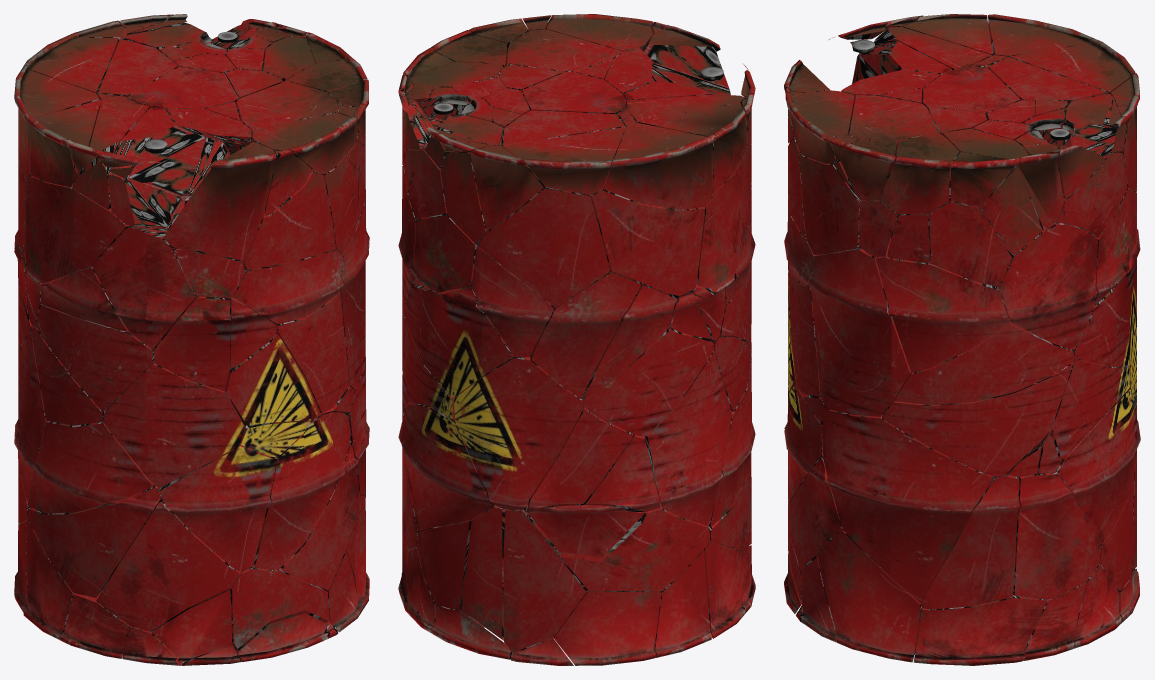
Rendered from Barrel.glb.
The picture shows the model from 3 angles, left to right: view 1: azimuth 30°, elevation 25°; view 2: azimuth 150°, elevation 25°; view 3: azimuth 270°, elevation 25°; orthographic projection.
Visible parts, largest first — view 1: Barrel_01_cell.110, Barrel_01_cell.028, Barrel_01_cell.017, Barrel_01_cell.014, Barrel_01_cell.170, Barrel_01_cell.023, Barrel_01_cell.192, Barrel_01_cell.038, Barrel_01_cell.096, Barrel_01_cell.105, Barrel_01_cell.120, Barrel_01_cell.159 (+51 smaller); view 2: Barrel_01_cell.011, Barrel_01_cell.175, Barrel_01_cell.152, Barrel_01_cell.171, Barrel_01_cell.151, Barrel_01_cell.018, Barrel_01_cell.187, Barrel_01_cell.054, Barrel_01_cell.199, Barrel_01_cell.133, Barrel_01_cell.008, Barrel_01_cell.168 (+49 smaller); view 3: Barrel_01_cell.129, Barrel_01_cell.082, Barrel_01_cell.106, Barrel_01_cell.007, Barrel_01_cell.117, Barrel_01_cell.132, Barrel_01_cell.197, Barrel_01_cell.059, Barrel_01_cell.094, Barrel_01_cell.147, Barrel_01_cell.199, Barrel_01_cell.156 (+46 smaller).
Part boxes in pixels (left/top/right/bottom): Barrel_01_cell.110: left=104, top=360, right=245, bottom=487; Barrel_01_cell.028: left=96, top=499, right=240, bottom=631; Barrel_01_cell.017: left=160, top=441, right=276, bottom=572; Barrel_01_cell.014: left=253, top=412, right=350, bottom=569; Barrel_01_cell.170: left=27, top=409, right=154, bottom=513; Barrel_01_cell.023: left=163, top=142, right=277, bottom=261; Barrel_01_cell.192: left=92, top=226, right=198, bottom=349; Barrel_01_cell.038: left=28, top=485, right=163, bottom=597; Barrel_01_cell.096: left=24, top=175, right=133, bottom=284; Barrel_01_cell.105: left=108, top=107, right=204, bottom=226; Barrel_01_cell.120: left=36, top=304, right=154, bottom=412; Barrel_01_cell.159: left=225, top=333, right=320, bottom=427; Barrel_01_cell.011: left=453, top=354, right=583, bottom=510; Barrel_01_cell.175: left=477, top=186, right=609, bottom=307; Barrel_01_cell.152: left=644, top=350, right=732, bottom=525; Barrel_01_cell.171: left=582, top=170, right=705, bottom=300; Barrel_01_cell.151: left=406, top=263, right=539, bottom=397; Barrel_01_cell.018: left=517, top=503, right=710, bottom=592; Barrel_01_cell.187: left=503, top=509, right=585, bottom=652; Barrel_01_cell.054: left=604, top=122, right=716, bottom=209; Barrel_01_cell.199: left=401, top=404, right=493, bottom=530; Barrel_01_cell.133: left=583, top=317, right=713, bottom=436; Barrel_01_cell.008: left=531, top=272, right=642, bottom=398; Barrel_01_cell.168: left=553, top=591, right=661, bottom=665; Barrel_01_cell.129: left=821, top=410, right=999, bottom=603; Barrel_01_cell.082: left=808, top=247, right=910, bottom=416; Barrel_01_cell.106: left=882, top=362, right=1073, bottom=476; Barrel_01_cell.007: left=876, top=238, right=1009, bottom=372; Barrel_01_cell.117: left=998, top=221, right=1097, bottom=350; Barrel_01_cell.132: left=817, top=530, right=922, bottom=662; Barrel_01_cell.197: left=1013, top=472, right=1101, bottom=599; Barrel_01_cell.059: left=894, top=318, right=1074, bottom=404; Barrel_01_cell.094: left=921, top=474, right=1020, bottom=609; Barrel_01_cell.147: left=913, top=594, right=1047, bottom=665; Barrel_01_cell.199: left=1056, top=389, right=1140, bottom=543; Barrel_01_cell.156: left=927, top=201, right=1011, bottom=286.
Size of the model in its own units: 0.5629 by 0.88 by 0.5629.
Materials: 1 (1 with a texture image).
